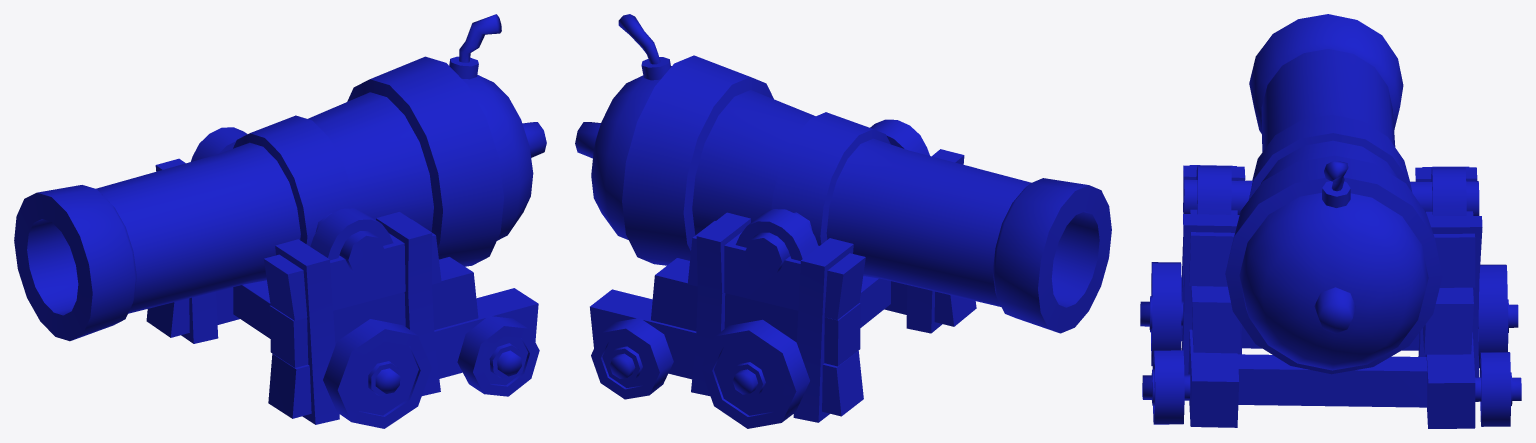
File: ship_gun.fbx
3 renders of one model, left to right at view 1: azimuth 30°, elevation 25°; view 2: azimuth 150°, elevation 25°; view 3: azimuth 270°, elevation 25°, orthographic.
Visible parts, largest first — view 1: gun, ship_gun; view 2: gun, ship_gun; view 3: gun, ship_gun.
Part boxes in pixels (x1,y1,x2,y2): gun: (14,14,546,341); ship_gun: (146,127,539,428); gun: (575,14,1111,333); ship_gun: (590,119,976,428); gun: (1225,14,1442,374); ship_gun: (1140,165,1521,428).
Bounding box in the file's own units: 890 × 526 × 593.
